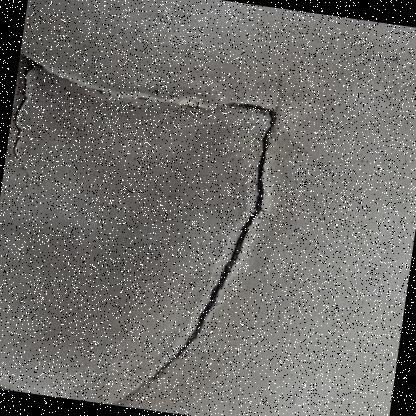Crack: (0, 16, 333, 415)
